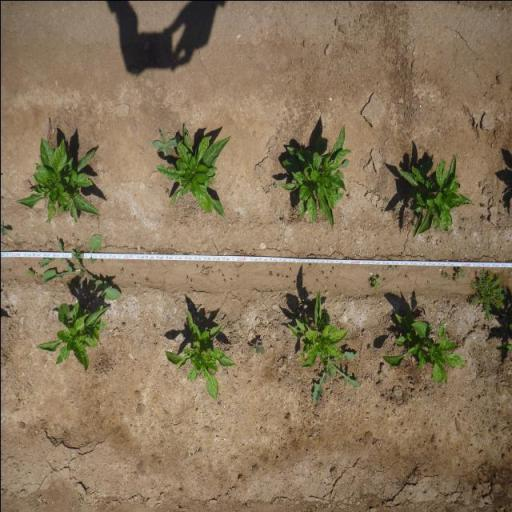plant: (15, 131, 105, 228), (276, 116, 346, 230), (154, 124, 237, 219), (164, 306, 238, 400), (381, 311, 469, 384), (398, 155, 473, 239), (36, 300, 114, 374), (285, 292, 346, 369)
weed: (39, 231, 122, 304), (307, 349, 365, 405), (466, 267, 503, 322), (35, 240, 73, 272), (152, 128, 178, 158), (248, 336, 265, 356), (454, 267, 466, 280), (0, 218, 8, 236), (372, 276, 382, 290), (26, 268, 36, 278), (306, 252, 312, 268), (441, 271, 450, 280), (484, 324, 490, 334), (382, 196, 389, 203), (393, 206, 399, 214), (278, 216, 285, 222), (164, 188, 169, 196), (480, 214, 486, 220), (368, 346, 374, 352), (221, 273, 225, 282), (272, 181, 276, 189), (239, 248, 244, 254), (291, 279, 296, 284), (269, 270, 273, 276), (201, 264, 205, 270), (121, 322, 125, 328), (285, 274, 289, 280), (145, 276, 148, 282), (119, 267, 122, 273), (262, 184, 264, 192), (186, 276, 188, 282), (154, 342, 156, 347), (348, 194, 350, 198)
